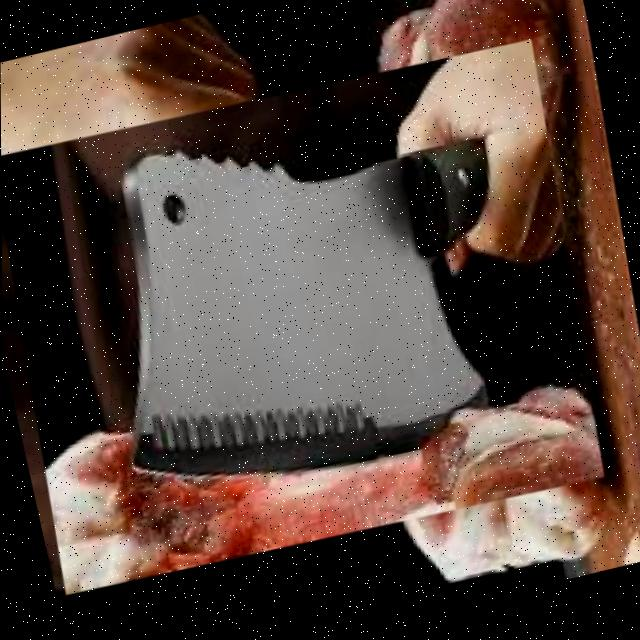knife: (60, 74, 549, 520)
